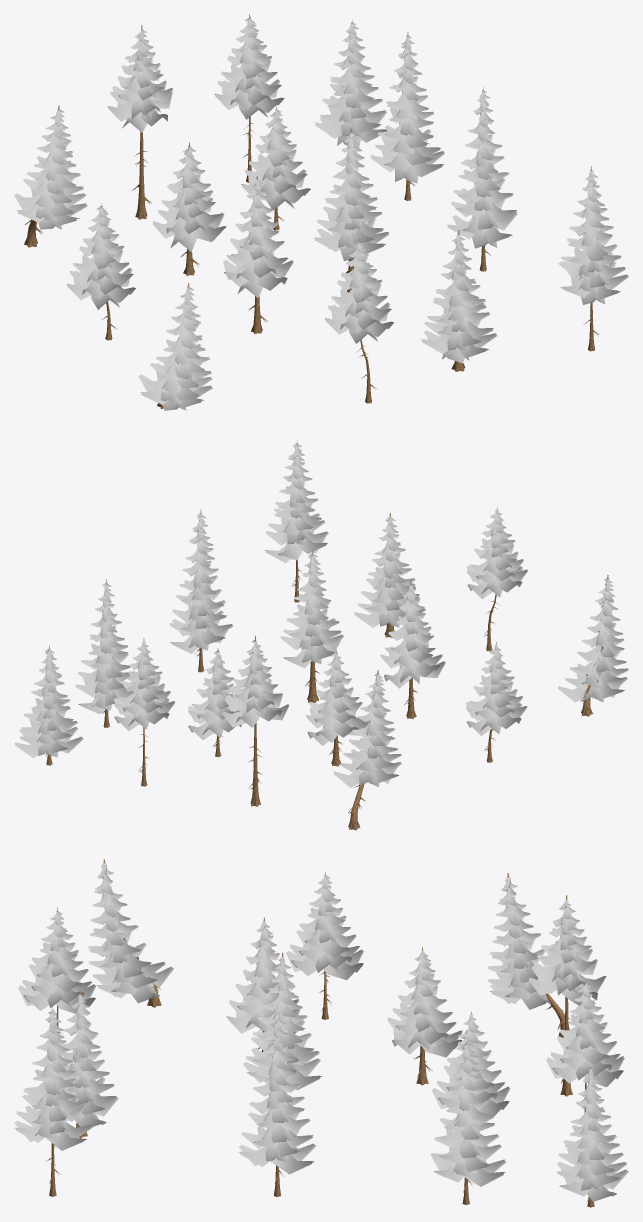
The picture shows the model from 3 angles, top to bottom: view 1: azimuth 30°, elevation 25°; view 2: azimuth 150°, elevation 25°; view 3: azimuth 270°, elevation 25°; orthographic projection. The views are drawn at different scales.
Parts seen in each view (by area): view 1: Tree_3, Tree_2, Tree_8, Tree_4, Tree_13, Tree_7, Tree_15, Tree_11, Tree_1, Tree_9, Tree_10, Tree_12 (+3 smaller); view 2: Tree_3, Tree_15, Tree_13, Tree_7, Tree_4, Tree_2, Tree_1, Tree_9, Tree_11, Tree_8, Tree_12, Tree_10 (+3 smaller); view 3: Tree_3, Tree_2, Tree_4, Tree_15, Tree_1, Tree_14, Tree_10, Tree_13, Tree_9, Tree_5, Tree_12, Tree_7 (+3 smaller).
Part boxes in pixels (x1,y1,x2,y2): Tree_3: (447,86,517,271); Tree_2: (370,32,444,200); Tree_8: (420,230,497,371); Tree_4: (558,166,628,351); Tree_13: (14,105,87,247); Tree_7: (314,128,389,292); Tree_15: (138,283,212,410); Tree_11: (223,176,293,333); Tree_1: (314,19,387,148); Tree_9: (107,25,172,219); Tree_10: (152,142,226,275); Tree_12: (325,238,393,403); Tree_3: (169,509,232,672); Tree_15: (558,575,628,716); Tree_13: (333,670,401,830); Tree_7: (280,549,344,702); Tree_4: (264,439,328,602); Tree_2: (75,579,134,727); Tree_1: (15,645,83,765); Tree_9: (221,635,289,806); Tree_11: (380,580,445,718); Tree_8: (354,513,425,637); Tree_12: (466,506,527,651); Tree_10: (306,649,369,766); Tree_3: (239,1006,315,1196); Tree_2: (430,1030,505,1205); Tree_4: (14,1005,92,1196); Tree_15: (88,859,173,1007); Tree_1: (556,1067,628,1207); Tree_14: (286,872,363,1019); Tree_10: (387,947,462,1085); Tree_13: (488,873,570,1037); Tree_9: (528,895,606,1096); Tree_5: (546,980,624,1112); Tree_12: (18,907,95,1039); Tree_7: (243,952,321,1090).
Bounding box in the file's own units: 74.56 × 29.42 × 82.55.
